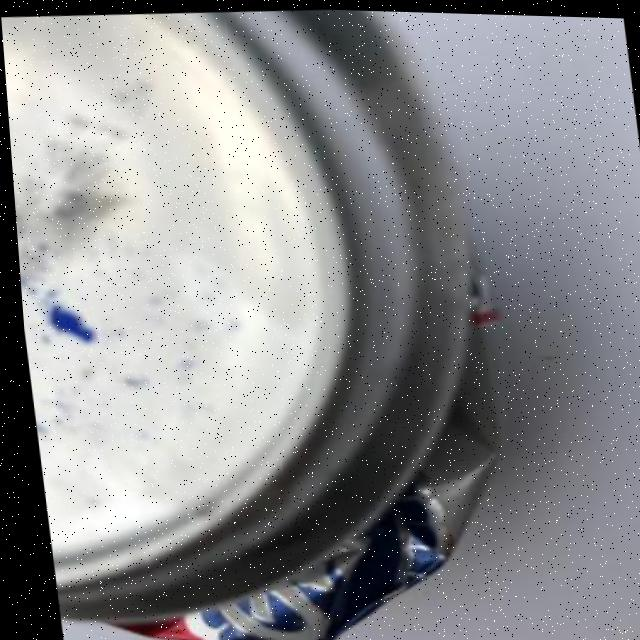metal: (0, 0, 518, 640)
